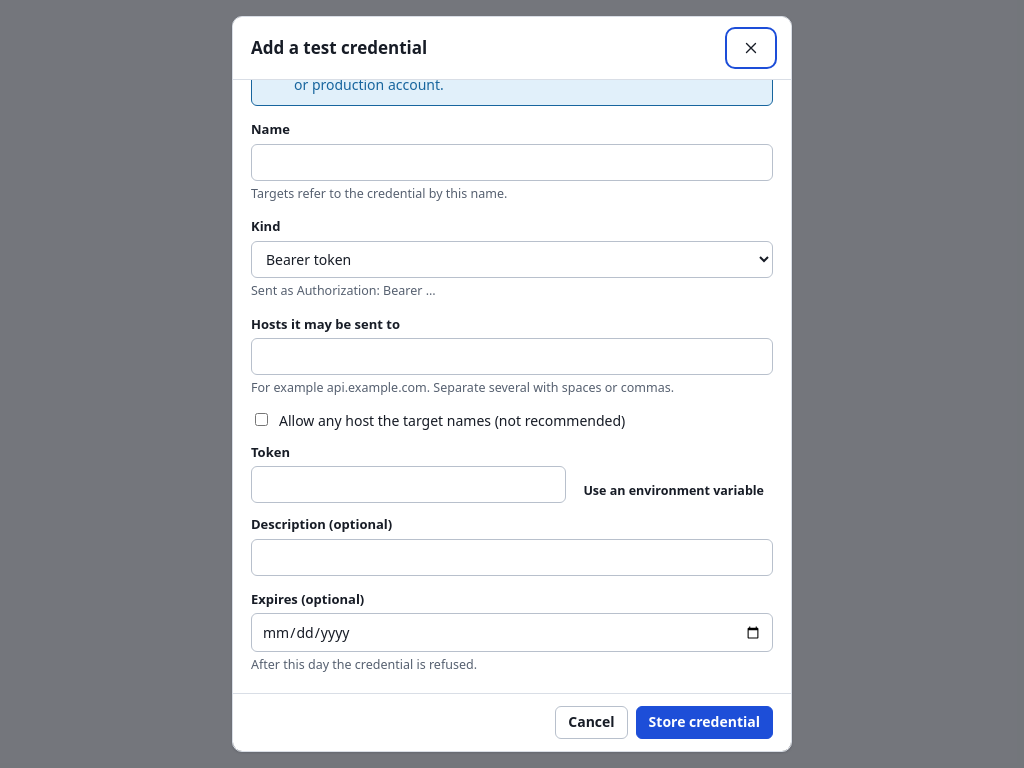
Scenario: CredentialDialog › says what is missing, and sends nothing, when asked to store an empty form
This screenshot has width=1024, height=768.
(page scrolled)
Click the 2nd button "Store credential".
click(704, 722)  # box [636,706,773,739]
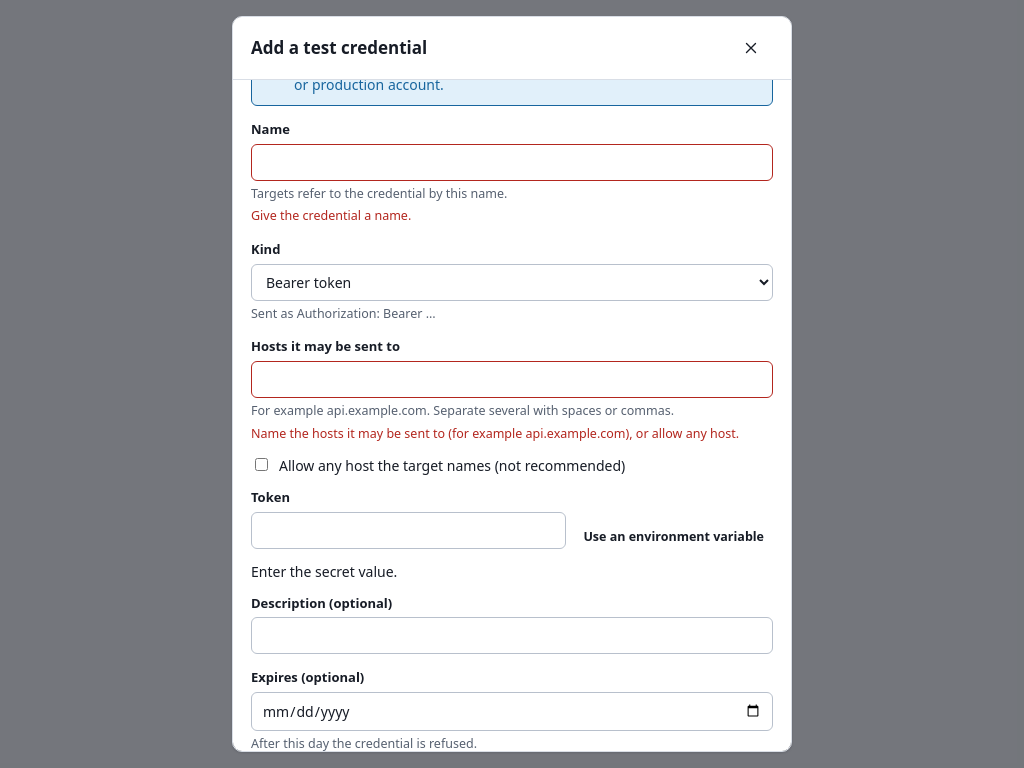
Check: the text "Give the credential a name." is shown, box [251,207,411,224]
Check: the text "Name the hosts it may be sent to" is shown, box [251,424,739,442]
Check: the text "Enter the secret value." is shown, box [251,562,397,581]
